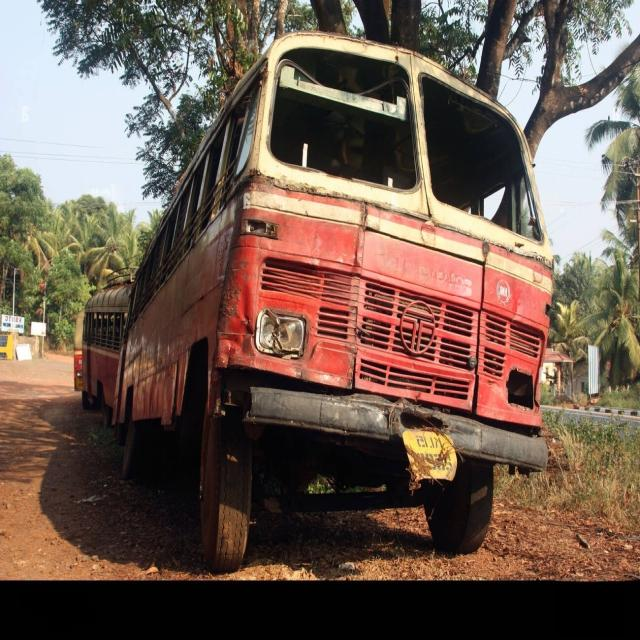accident: (114, 34, 552, 571)
